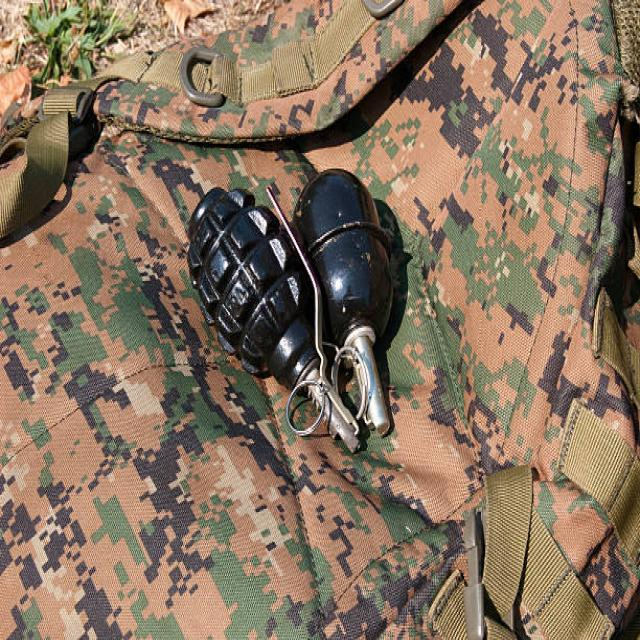grenade: (182, 180, 363, 465), (294, 169, 409, 444)
